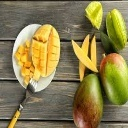mango: (71, 73, 103, 128)
